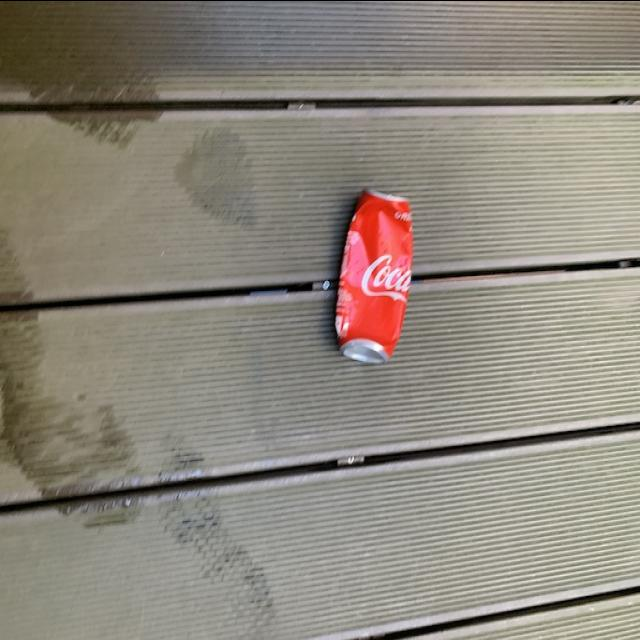litter: (331, 174, 421, 372)
